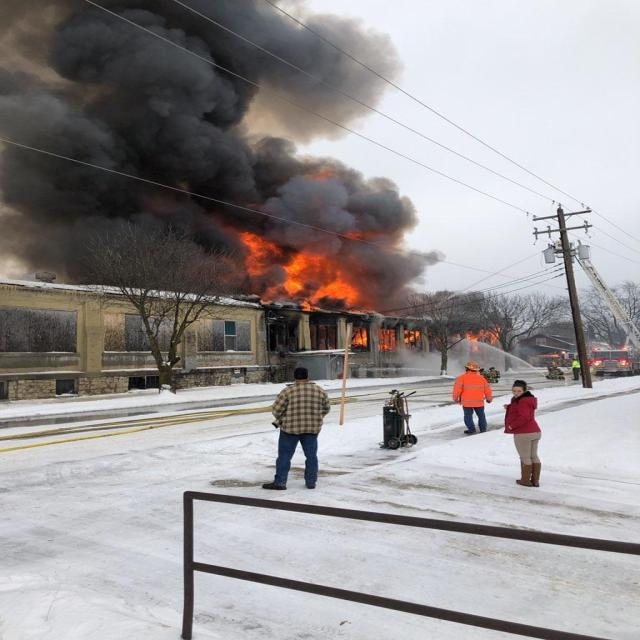Fire: (245, 232, 369, 308), (351, 328, 370, 345), (401, 330, 422, 345), (466, 329, 487, 340)
